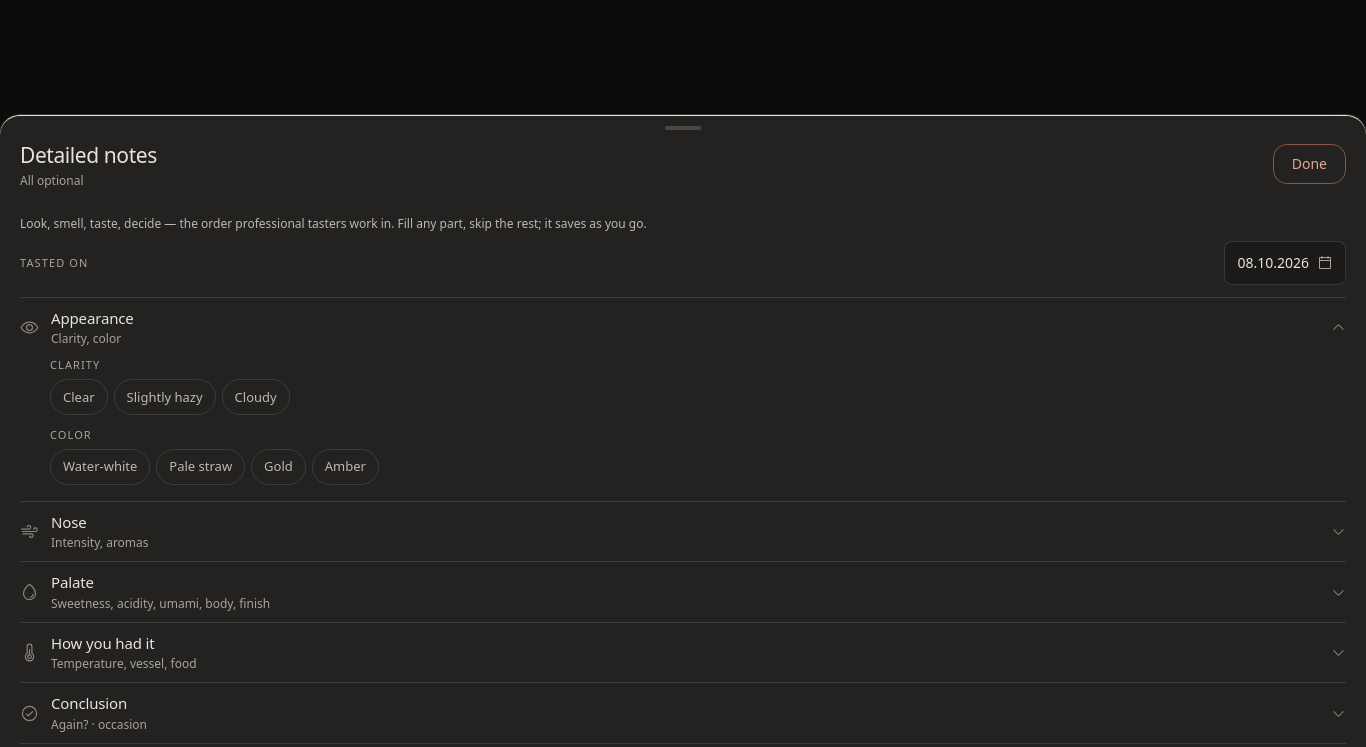
it: §10 detailed notes › offers six serving temperatures by romaji, with the kanji in a sheet that explains them
Click the button with test id "detailed-notes-toggle-serve" at (103, 643), box [20,623,1346,682]
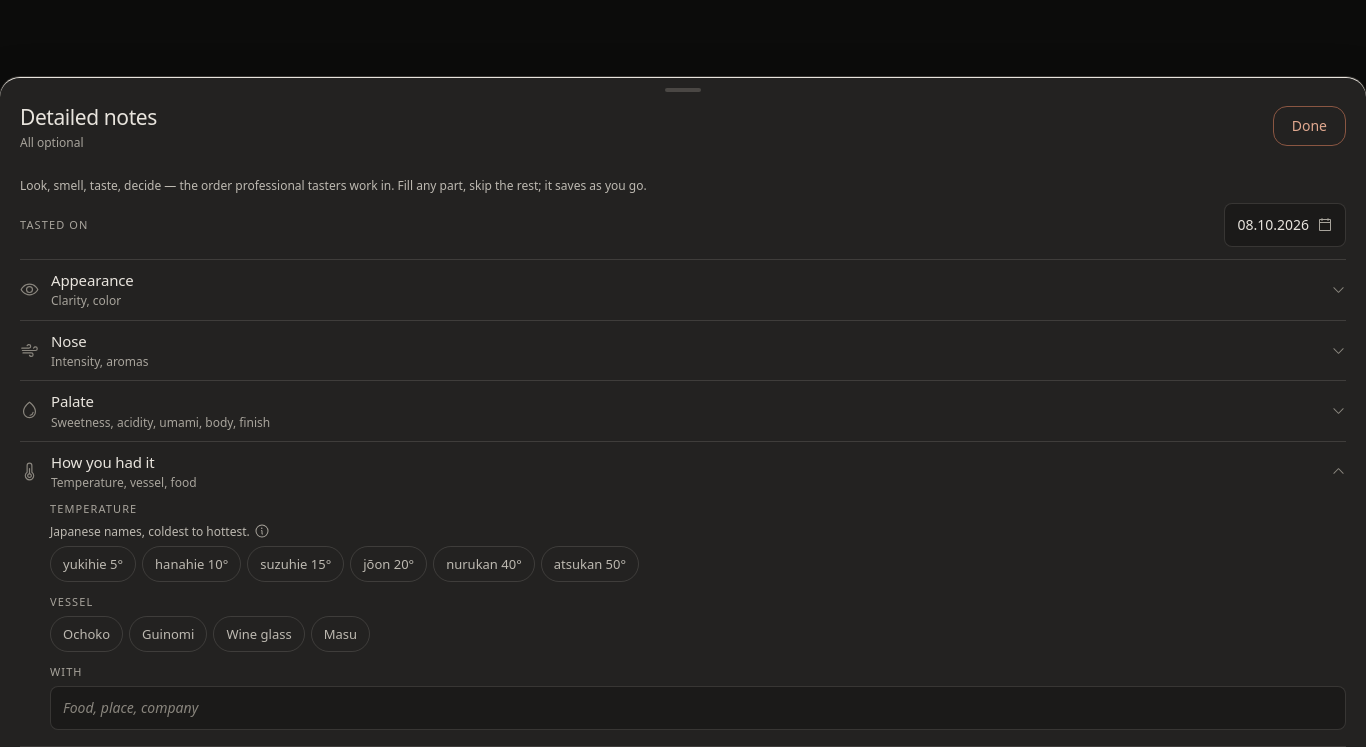
Click the button with test id "info-sheet-serving-temperatures-trigger" at (262, 531), box [254,523,270,539]
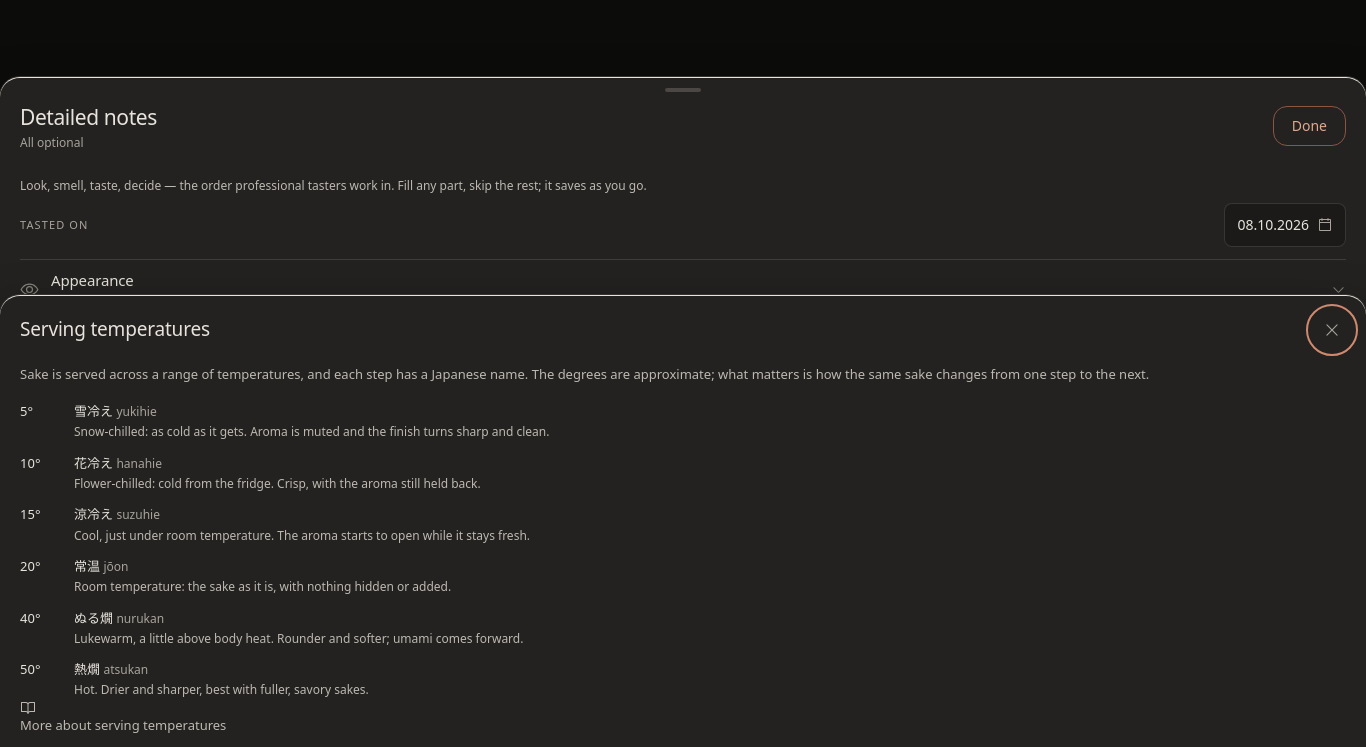
Expected: the element with test id "serving-temperature-terms" shows "涼冷え", [74,505,113,523]
Expected: the element with test id "serving-temperature-terms" shows "Cool, just under room temperature", [74,526,530,544]
